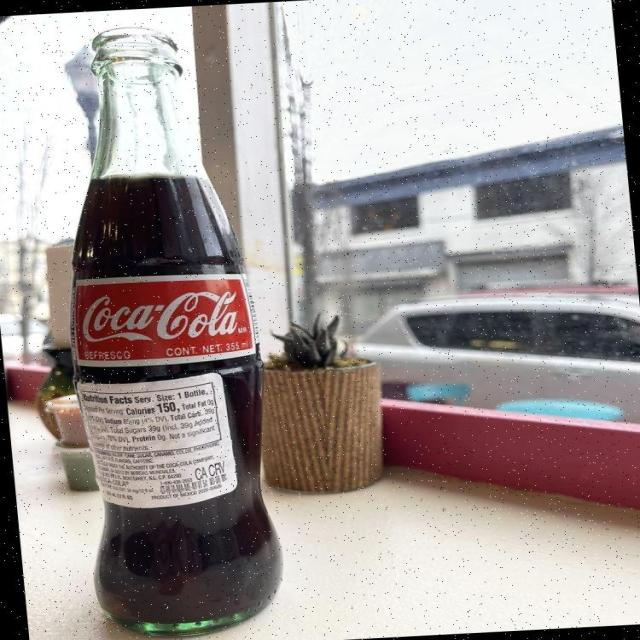coca-cola: (31, 11, 300, 635)
